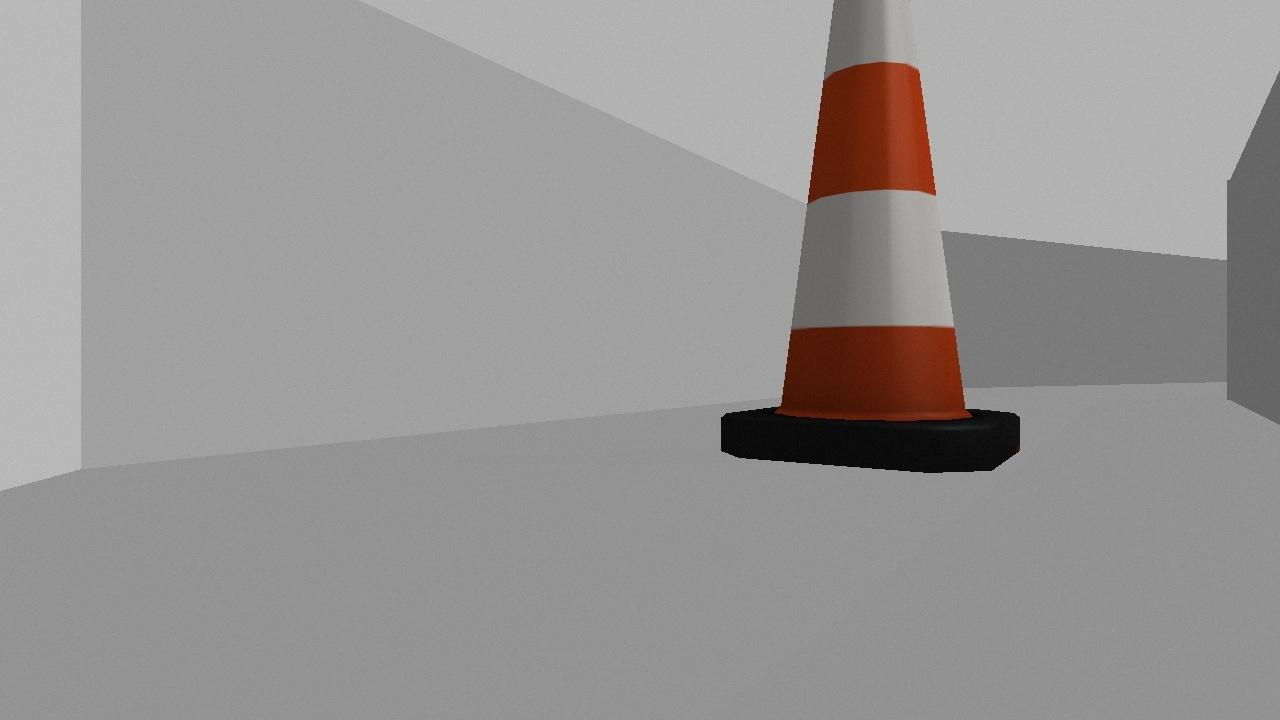cone_barrel: (717, 0, 1023, 472)
